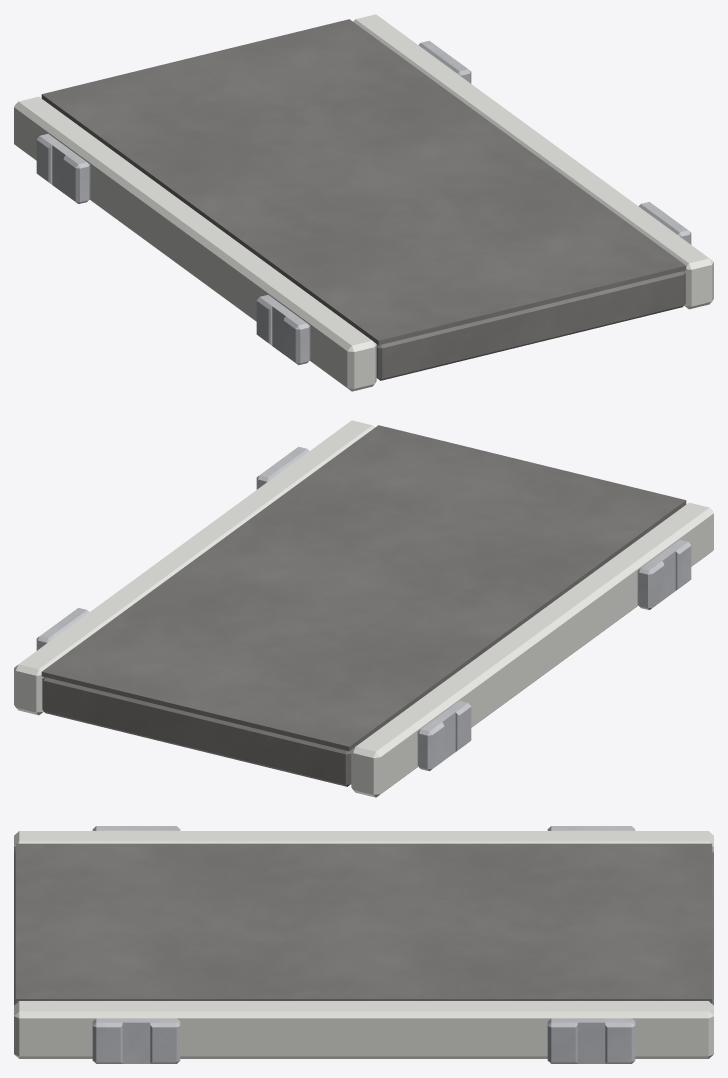
File: ax_rover_14_chassis_m.glb
The picture shows the model from 3 angles, top to bottom: view 1: azimuth 30°, elevation 25°; view 2: azimuth 150°, elevation 25°; view 3: azimuth 270°, elevation 25°; orthographic projection. The views are drawn at different scales.
Parts seen in each view (by area): view 1: deck_grid, side_beams, cross_members, axle_stations; view 2: deck_grid, side_beams, cross_members, axle_stations; view 3: deck_grid, side_beams, axle_stations, cross_members.
Boxes of the visible parts, <box> form: deck_grid: <box>41,19,686,345</box>; side_beams: <box>14,14,713,391</box>; cross_members: <box>376,271,685,380</box>; axle_stations: <box>36,40,691,365</box>; deck_grid: <box>41,425,686,751</box>; side_beams: <box>14,420,713,797</box>; cross_members: <box>42,677,351,786</box>; axle_stations: <box>36,446,691,771</box>; deck_grid: <box>15,843,712,1003</box>; side_beams: <box>14,831,713,1058</box>; axle_stations: <box>92,826,635,1063</box>; cross_members: <box>14,852,713,1005</box>.
Bounding box in the file's own units: 2.7 × 0.3 × 4.
3 materials, 2 textured.
